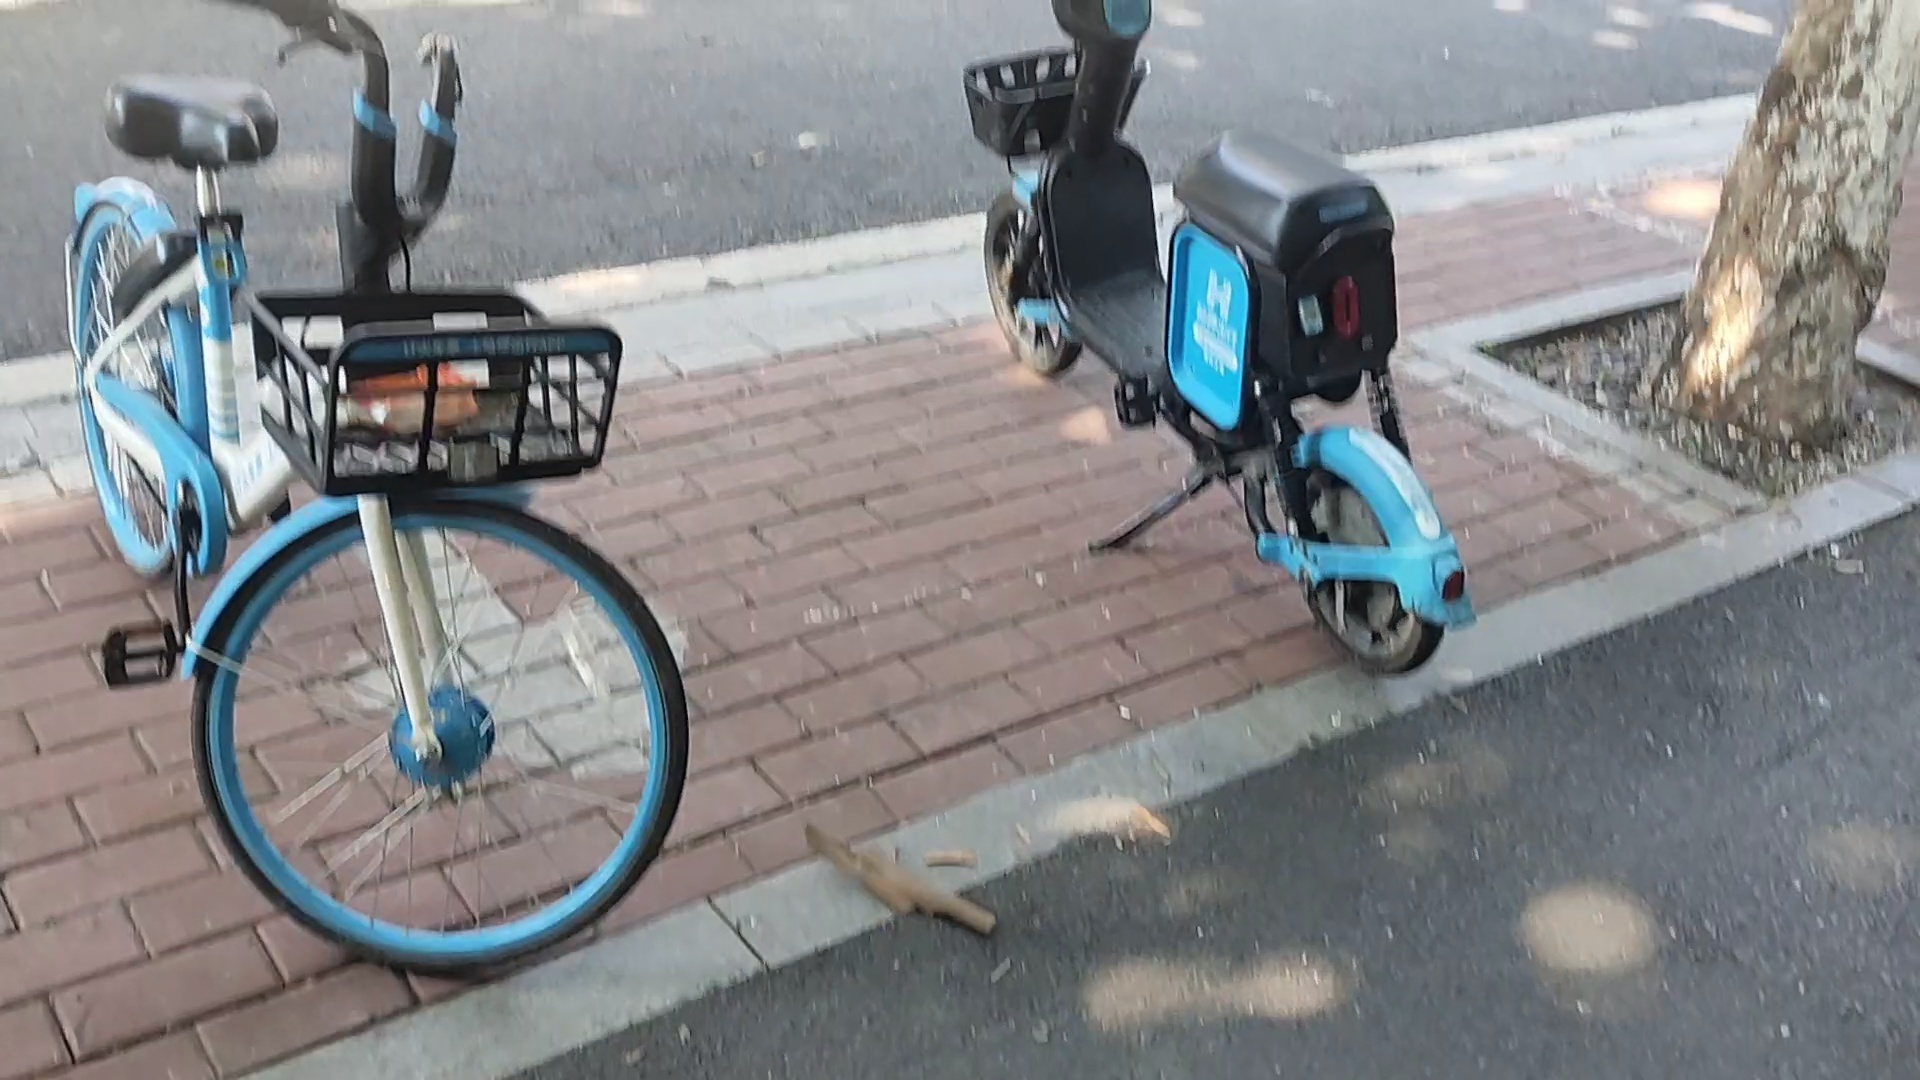non-vehicle: (18, 36, 694, 1014), (934, 0, 1466, 713)
